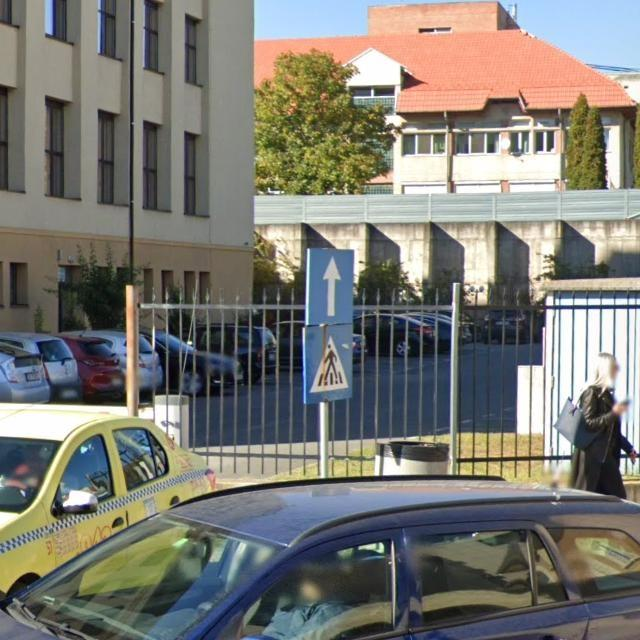info_crosswalk: (301, 326, 358, 406)
